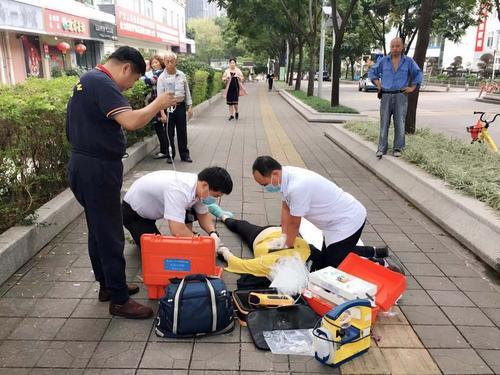bending: (252, 153, 370, 274), (121, 165, 234, 249)
down: (205, 201, 318, 299)
up: (66, 48, 176, 319), (371, 35, 422, 162), (160, 54, 197, 168), (222, 56, 245, 122)
